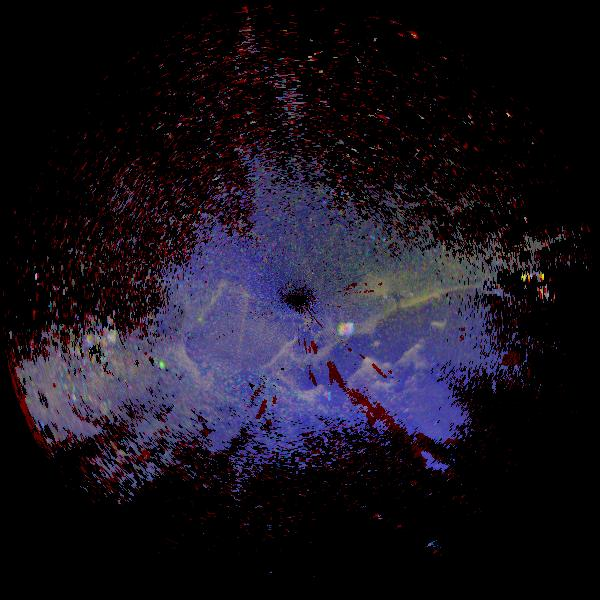roost: (334, 317, 358, 341)
